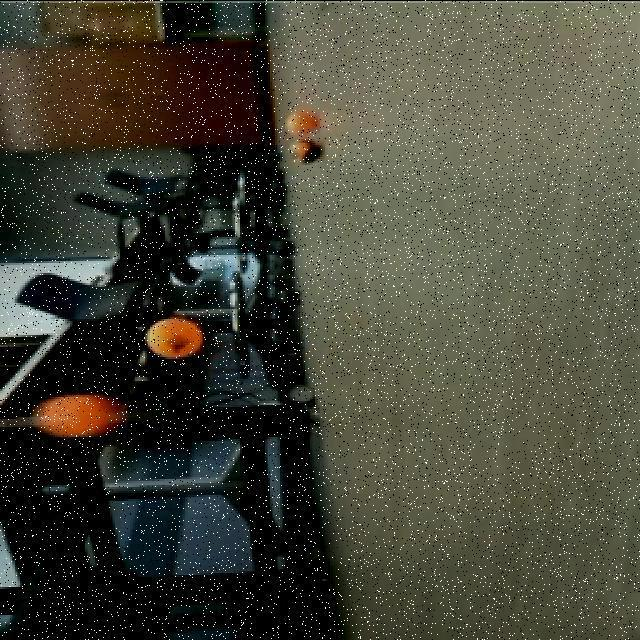ping-pong-ball: (28, 388, 122, 442), (143, 308, 206, 358), (281, 135, 329, 165), (280, 106, 322, 134)
